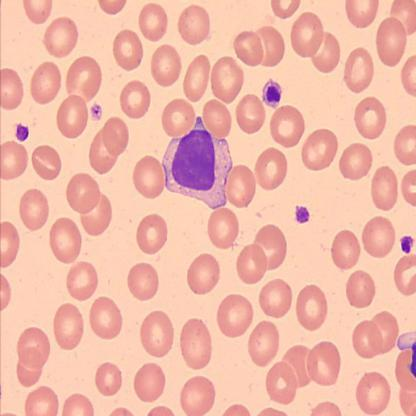Atypical lymphocyte: (165, 114, 233, 209)
